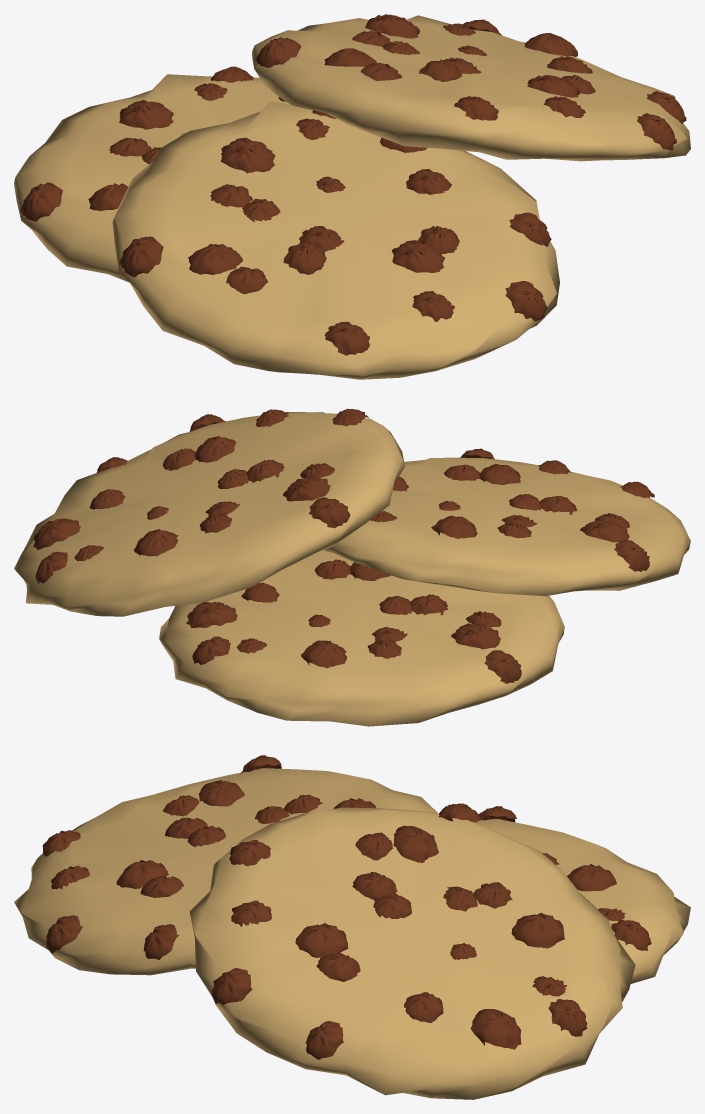
File: Cookies.fbx
The picture shows the model from 3 angles, top to bottom: view 1: azimuth 30°, elevation 25°; view 2: azimuth 150°, elevation 25°; view 3: azimuth 270°, elevation 25°; orthographic projection. The views are drawn at different scales.
Visible parts, largest first — view 1: Sphere.000, Sphere.001, Sphere.009; view 2: Sphere.001, Sphere.009, Sphere.000; view 3: Sphere.001, Sphere.000, Sphere.009.
Part boxes in pixels (x1,y1,x2,y2): Sphere.000: [112, 102, 559, 379]; Sphere.001: [252, 14, 690, 161]; Sphere.009: [14, 66, 289, 282]; Sphere.001: [14, 408, 404, 616]; Sphere.009: [159, 550, 564, 726]; Sphere.000: [323, 448, 690, 595]; Sphere.001: [189, 803, 635, 1099]; Sphere.000: [14, 755, 438, 975]; Sphere.009: [473, 806, 690, 983].
Bounding box in the file's own units: 304 × 78.07 × 305.
